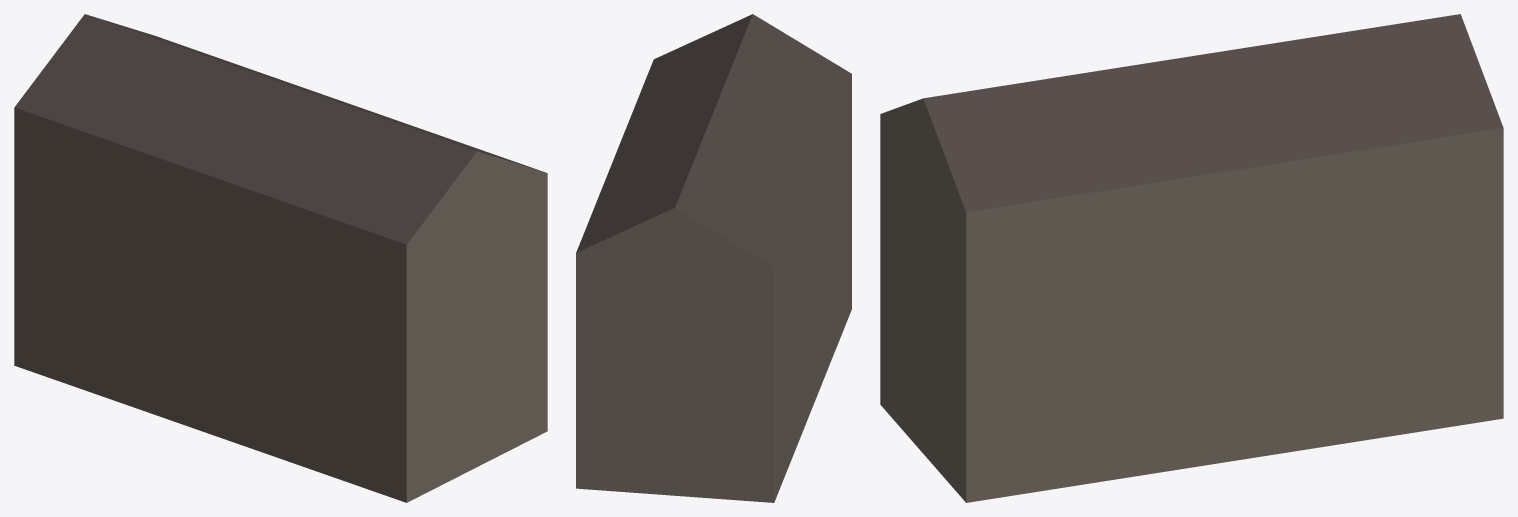
The picture shows the model from 3 angles, left to right: view 1: azimuth 30°, elevation 25°; view 2: azimuth 150°, elevation 25°; view 3: azimuth 270°, elevation 25°; orthographic projection. The views are drawn at different scales.
Visible parts, largest first — view 1: HP-w776800998; view 2: HP-w776800998; view 3: HP-w776800998.
Part boxes in pixels (x1=…): HP-w776800998: x1=14, y1=14, x2=547, y2=502; HP-w776800998: x1=576, y1=14, x2=851, y2=502; HP-w776800998: x1=880, y1=14, x2=1503, y2=502.
Bounding box in the file's own units: 8.09 × 7.34 × 11.66.
